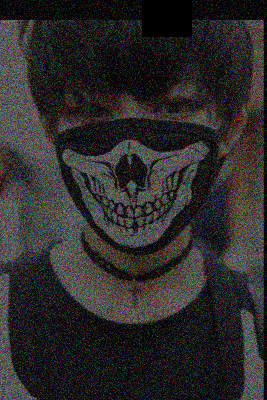with_mask: (52, 66, 219, 257)
